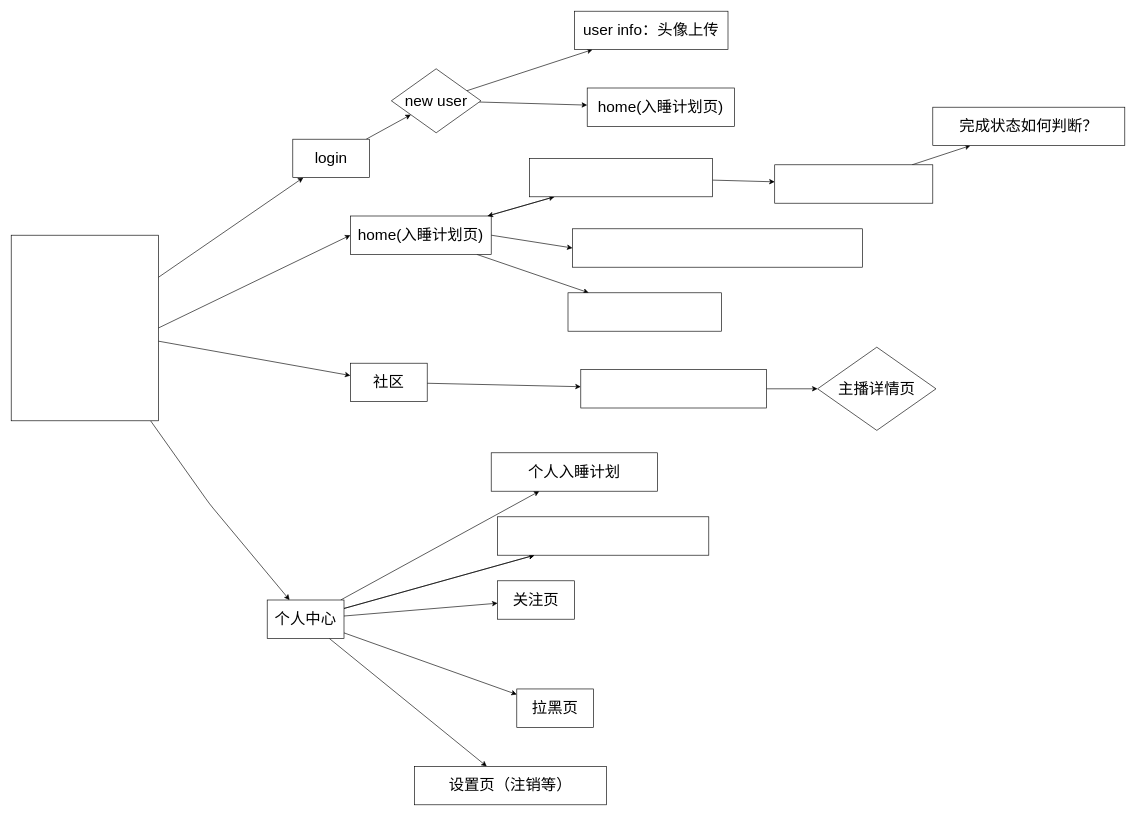
This 1136x816 diagram has some shape labels left out. The shapes that lost their labels are listed below. From the top down, each one's box as (x1, y1, x2, y2) in pixels, then its label:
(529, 158, 713, 197): 固定10个schedule list
(774, 164, 933, 203): 可下滑填写schedule，最长18字符
(572, 228, 862, 267): 手指按钮左右比例数据随时更改？
(11, 235, 158, 421): hani
(567, 292, 722, 331): 跳转社区按钮
(580, 369, 766, 408): 顶部主播头像list（几个）
(497, 516, 709, 555): 个人信息编辑
